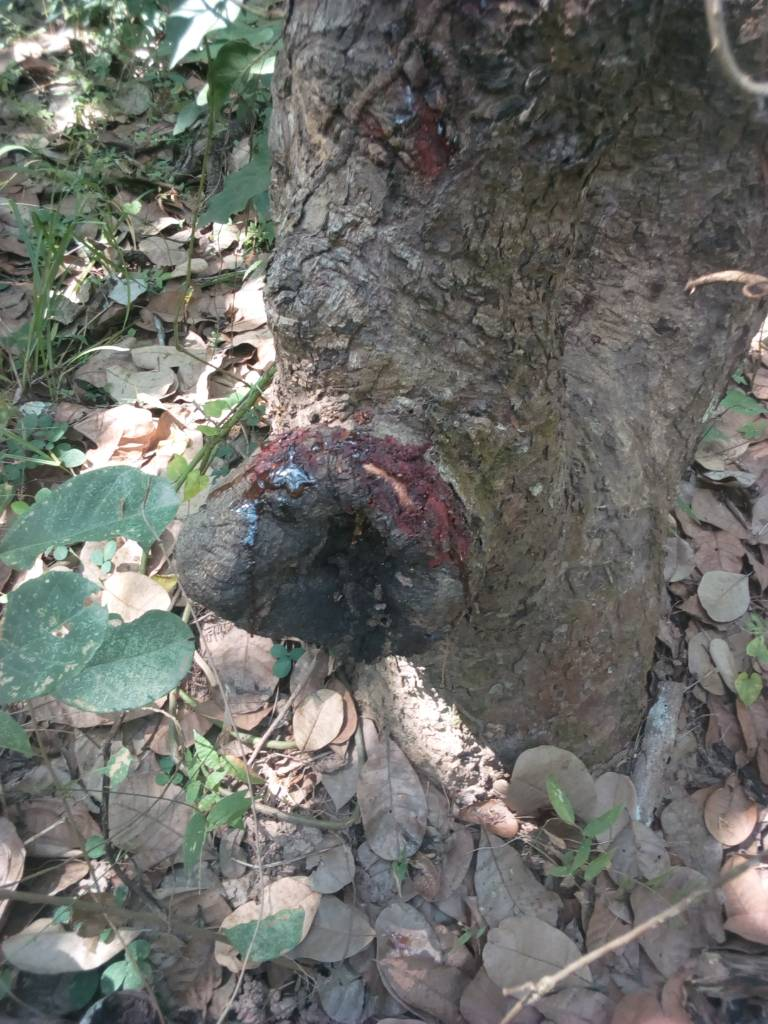Termites: (280, 1, 579, 214)
